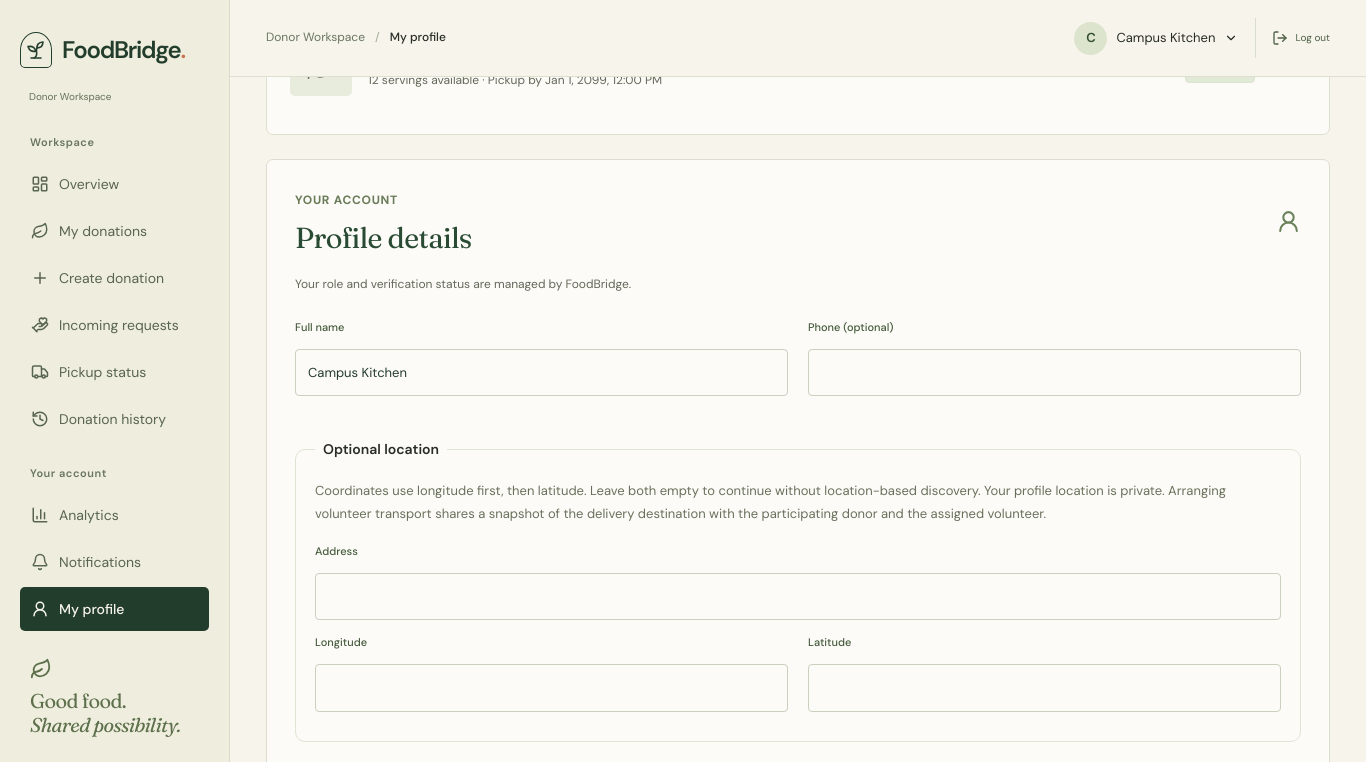
Test: donor operational workspace › saves only permitted profile fields from the existing profile anchor
(page scrolled)
Expected: the field labelled "Full name" is shown, [295,349,788,396]
In the field labelled "Phone (optional)": (1054, 372) [808,349,1301,396], type "+15550001111"
(page scrolled)
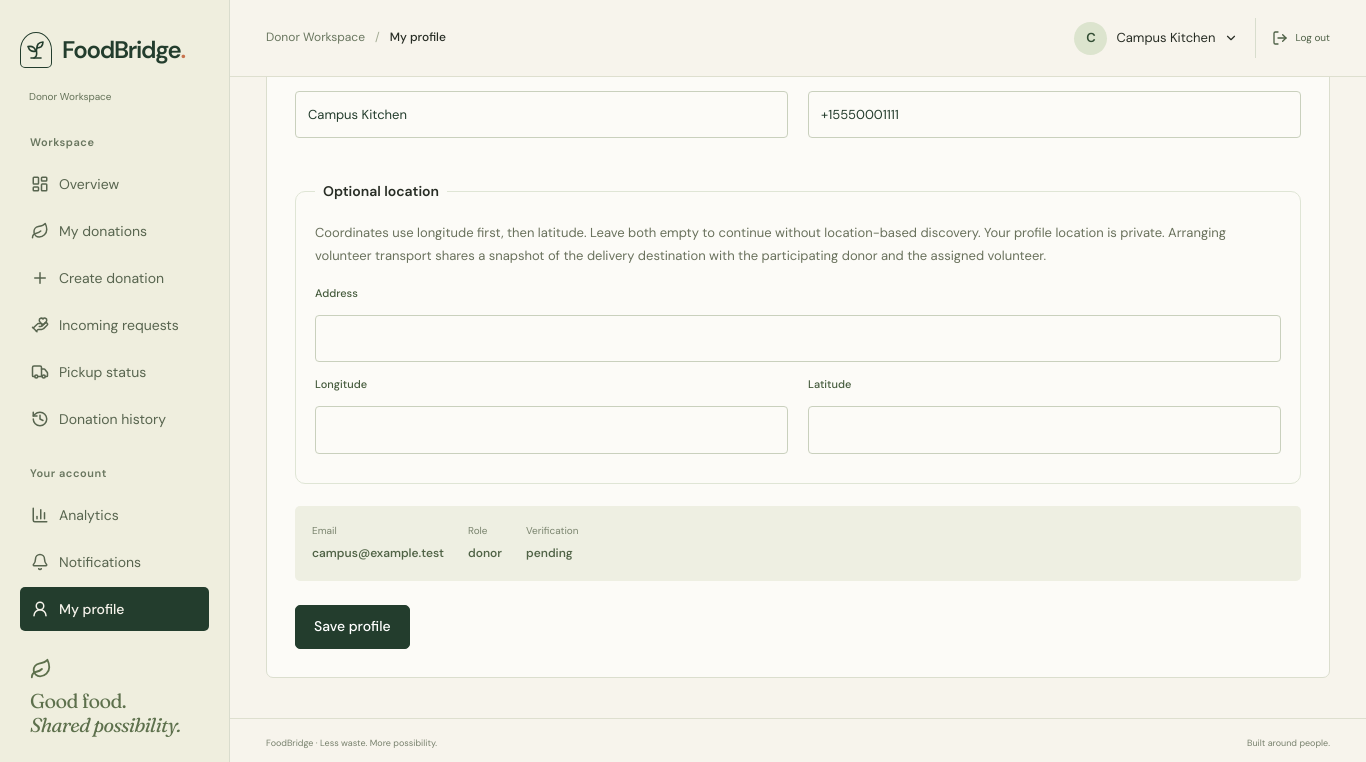
Click the button "Save profile": (352, 627) [295,605,410,649]
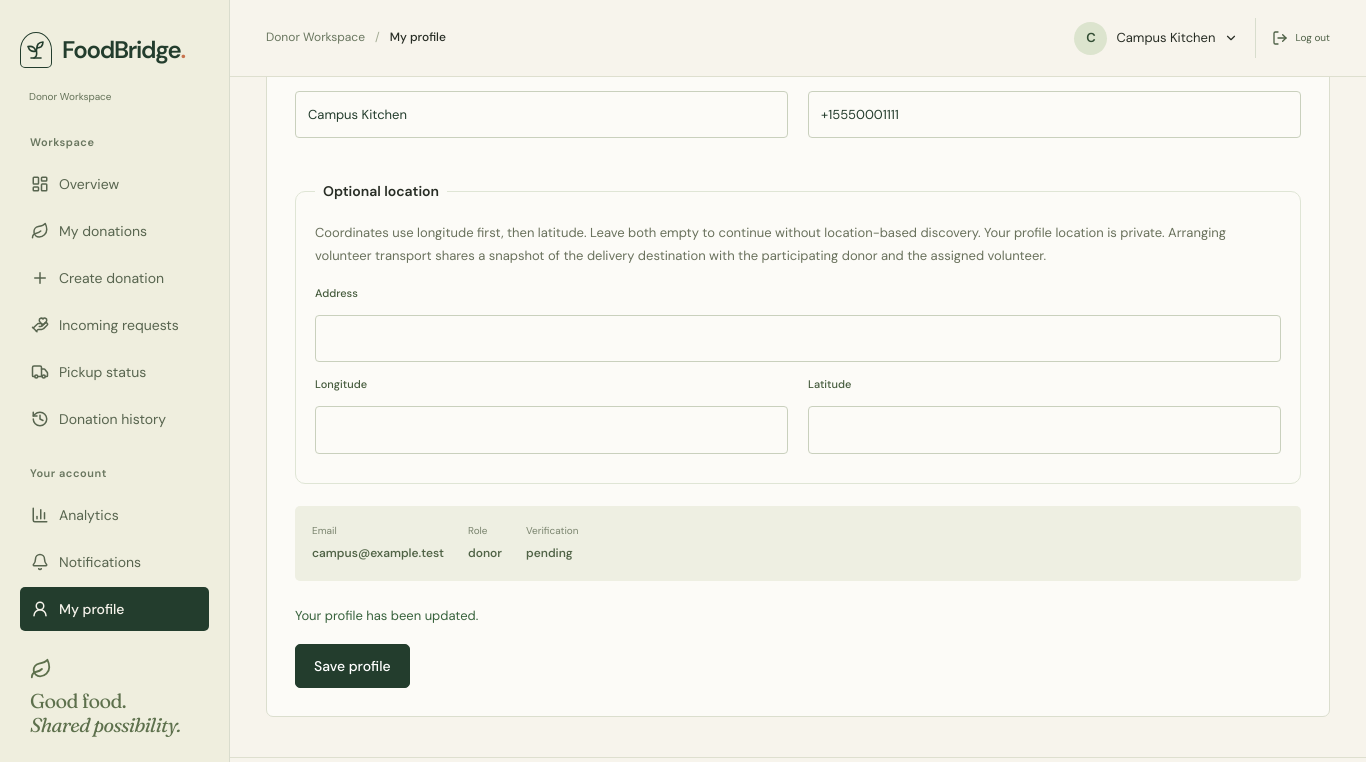
Result: the text "Your profile has been updated." is shown at [295,607,478,624]
